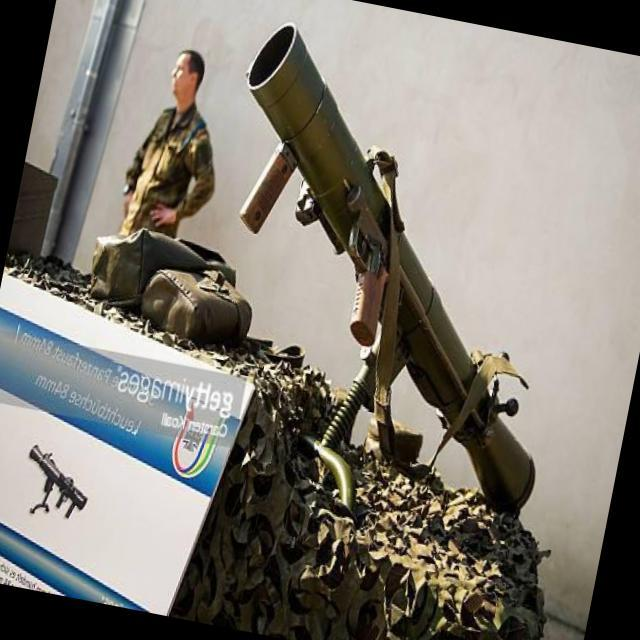rocket: (177, 31, 615, 522)
